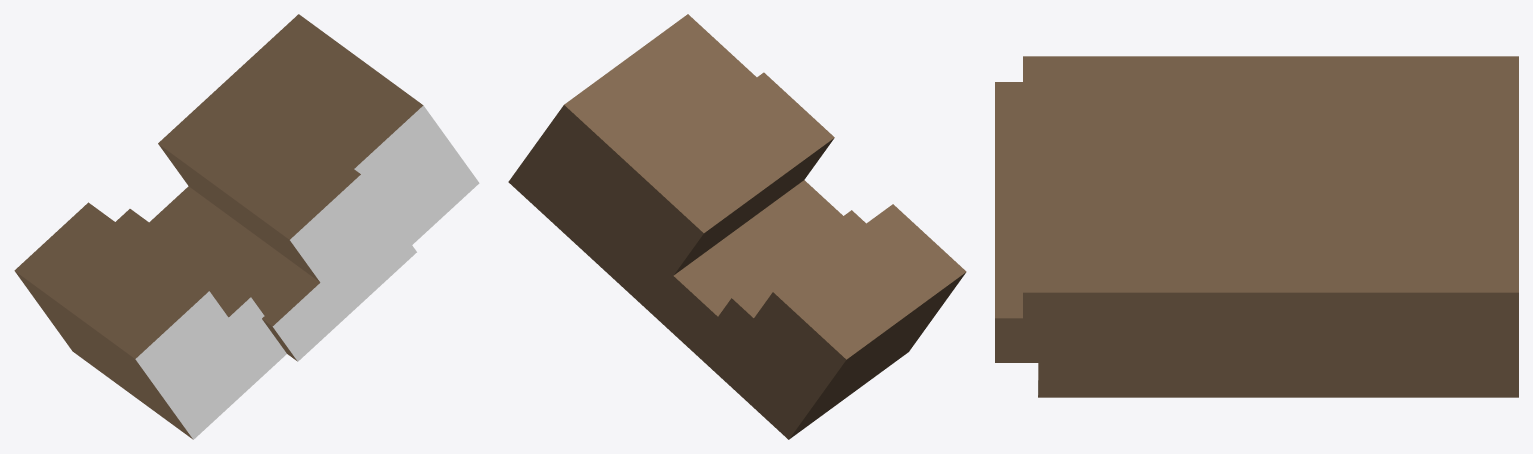
The picture shows the model from 3 angles, left to right: view 1: azimuth 30°, elevation 25°; view 2: azimuth 150°, elevation 25°; view 3: azimuth 270°, elevation 25°; orthographic projection. The views are drawn at different scales.
Parts seen in each view (by area): view 1: City_1202548; view 2: City_1202548; view 3: City_1202548.
Part boxes in pixels (x1=…): City_1202548: x1=14, y1=14, x2=479, y2=439; City_1202548: x1=508, y1=14, x2=966, y2=439; City_1202548: x1=995, y1=56, x2=1518, y2=397.
Bounding box in the file's own units: 2294 × 1818 × 1538.
